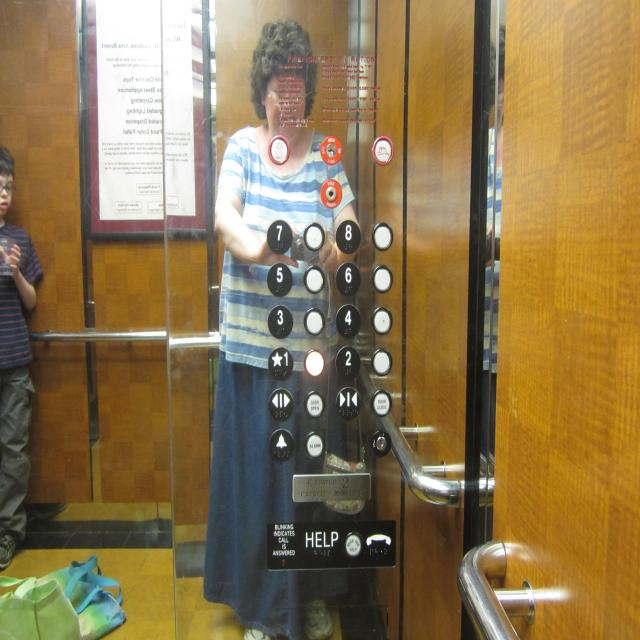2: (336, 346, 360, 378)
3: (268, 305, 292, 339)
4: (335, 303, 361, 338)
5: (267, 262, 292, 296)
6: (336, 262, 360, 296)
7: (266, 220, 292, 255)
8: (335, 220, 361, 253)
alarm: (267, 427, 295, 462)
call: (364, 529, 392, 559)
close: (335, 386, 361, 419)
empty: (303, 222, 325, 251), (302, 348, 324, 377), (372, 222, 393, 251), (304, 265, 324, 293), (372, 264, 392, 292), (372, 306, 392, 334), (304, 308, 324, 334), (372, 349, 392, 375)
keyhole: (320, 135, 342, 165), (320, 178, 342, 208), (372, 431, 392, 456)
open: (268, 388, 294, 421)
s1: (268, 346, 294, 381)
text_alarm bell: (304, 432, 324, 459)
text_close door: (370, 391, 392, 416)
text_help: (344, 532, 363, 558)
text_open door: (304, 391, 325, 417)
unknown: (268, 135, 290, 165), (372, 135, 394, 165)
